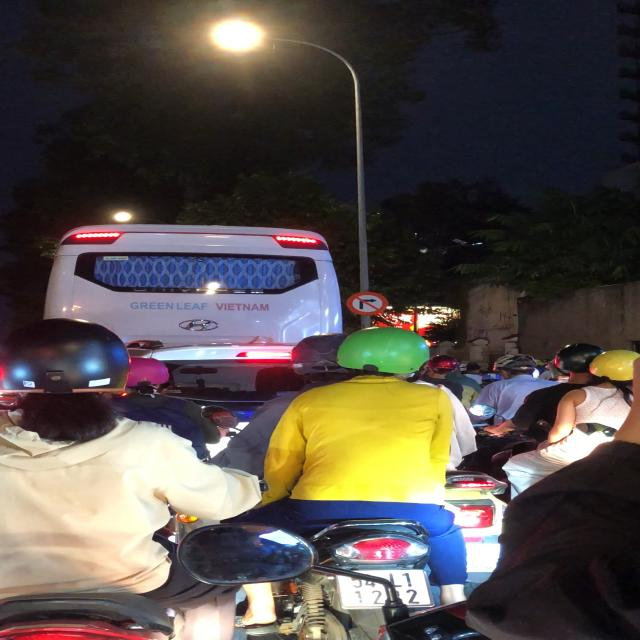Bien bao cam re phai: (347, 290, 392, 316)
